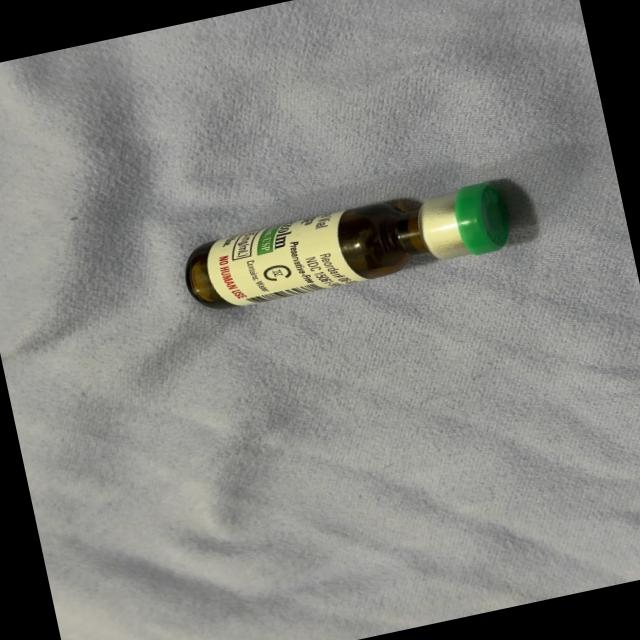midazolm: (182, 176, 510, 314)
